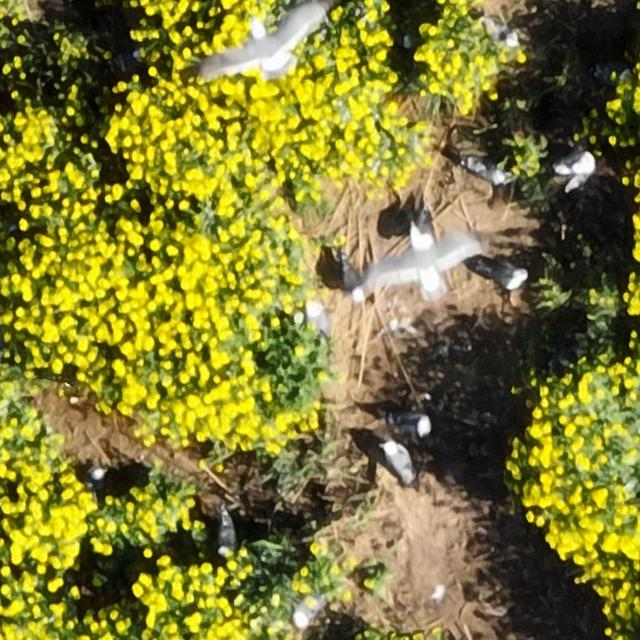F: (354, 223, 481, 305), (208, 8, 328, 82)
umineko: (479, 264, 526, 288), (386, 442, 414, 482), (559, 152, 595, 180), (292, 595, 322, 628), (484, 18, 518, 46), (466, 161, 504, 183), (389, 413, 428, 434), (218, 513, 236, 553), (413, 210, 433, 244), (309, 304, 329, 334)
